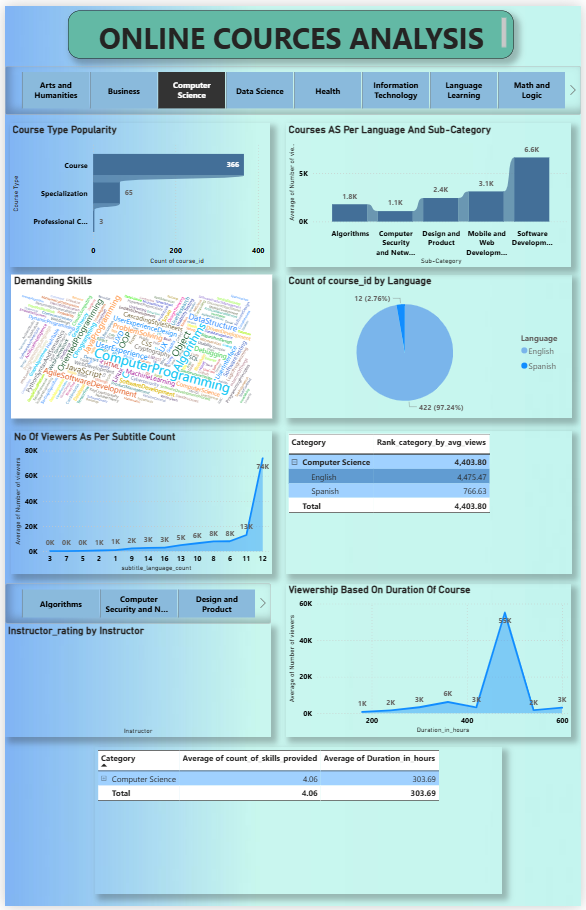

What the dashboard file says about the page in this screenshot:
{"tool":"powerbi","page":{"name":"Page 1","canvas":[960,1500],"ordinal":0},"visuals":[{"type":"textbox","box":[103.8,7.6,742.7,80],"z":0},{"type":"slicer","fields":{"Values":["Online_Courses.Category"]},"box":[0,100.5,960,81.1],"z":1000},{"type":"barChart","title":"Course Type Popularity","fields":{"Y":["CountNonNull(Online_Courses.course_id)"],"Category":["Online_Courses.Course Type"]},"box":[8.6,194.6,434.6,240],"z":2000},{"type":"columnChart","title":"Courses AS Per Language And Sub-Category","fields":{"Category":["Online_Courses.Sub-Category","Online_Courses.Language"],"Y":["Avg(Online_Courses.Number of viewers)"]},"box":[468.1,194.6,476.8,240],"z":3000},{"type":"WordCloud1447959067750","title":"Demanding Skills","fields":{"Category":["Online_Courses.Skills"]},"box":[9,447.5,435,240],"z":4000},{"type":"pieChart","fields":{"Category":["Online_Courses.Language"],"Y":["CountNonNull(Online_Courses.course_id)"]},"box":[468,448,477,240],"z":5000},{"type":"lineChart","title":"No Of Viewers As Per Subtitle Count","fields":{"Y":["Avg(Online_Courses.Number of viewers)"],"Category":["Online_Courses.subtitle_language_count"]},"box":[9,708,435,240],"z":6000},{"type":"pivotTable","fields":{"Rows":["Online_Courses.Category","Online_Courses.Language"],"Values":["Online_Courses.Rank_category_by_avg_views"]},"box":[468,708,477,240],"z":7000},{"type":"slicer","fields":{"Values":["Teacher.Sub-Category"]},"box":[0,963.3,443.3,66.7],"z":9000},{"type":"columnChart","fields":{"Category":["Teacher.Instructor"],"Y":["Teacher.Instructor_rating"]},"box":[0,1030,443.3,188.3],"z":9001},{"type":"lineChart","title":"Viewership Based On Duration Of Course","fields":{"Category":["Online_Courses.Duration_in_hours"],"Y":["Avg(Online_Courses.Number of viewers)"]},"box":[468.3,963.3,476.7,255],"z":9002},{"type":"pivotTable","fields":{"Rows":["Online_Courses.Category","Online_Courses.Sub-Category"],"Values":["Avg(Online_Courses.count_of_skills_provided)","Avg(Online_Courses.Duration_in_hours)"]},"box":[150,1235,678.3,245],"z":9003}]}

Visuals, with their boxes in screenshot pixels (x1, y1, x2, y2), scaled from the page's 960x1500 canvas onto the 586x910 screenshot:
textbox: <bbox>63, 5, 517, 53</bbox>
slicer - Online_Courses.Category: <bbox>0, 61, 585, 110</bbox>
"Course Type Popularity" barChart: <bbox>5, 118, 271, 264</bbox>
"Courses AS Per Language And Sub-Category" columnChart: <bbox>286, 118, 577, 264</bbox>
"Demanding Skills" WordCloud1447959067750: <bbox>5, 271, 271, 417</bbox>
pieChart - Online_Courses.Language x CountNonNull(Online_Courses.course_id): <bbox>286, 272, 577, 417</bbox>
"No Of Viewers As Per Subtitle Count" lineChart: <bbox>5, 430, 271, 575</bbox>
pivotTable - Online_Courses.Category x Online_Courses.Language: <bbox>286, 430, 577, 575</bbox>
slicer - Teacher.Sub-Category: <bbox>0, 584, 271, 625</bbox>
columnChart - Teacher.Instructor x Teacher.Instructor_rating: <bbox>0, 625, 271, 739</bbox>
"Viewership Based On Duration Of Course" lineChart: <bbox>286, 584, 577, 739</bbox>
pivotTable - Online_Courses.Category x Online_Courses.Sub-Category: <bbox>92, 749, 506, 898</bbox>
